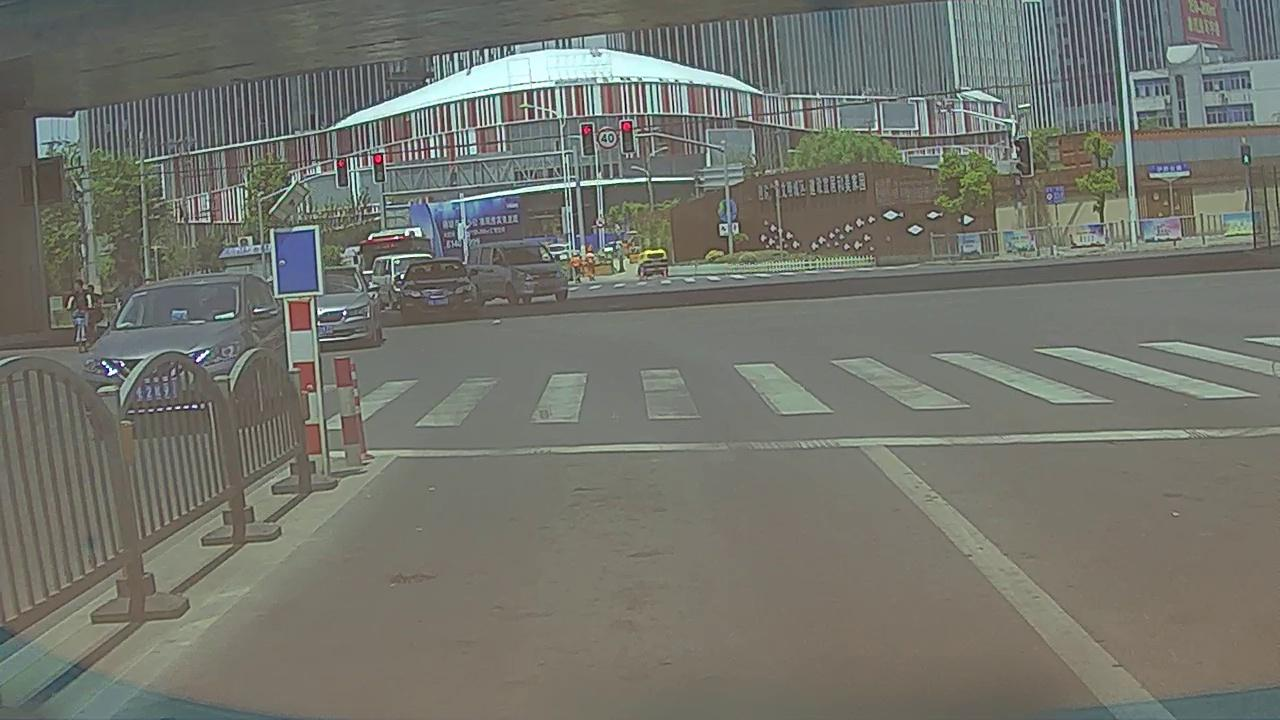traffic_light: (620, 121, 634, 152), (581, 123, 594, 156), (336, 156, 348, 186), (373, 153, 385, 183)
